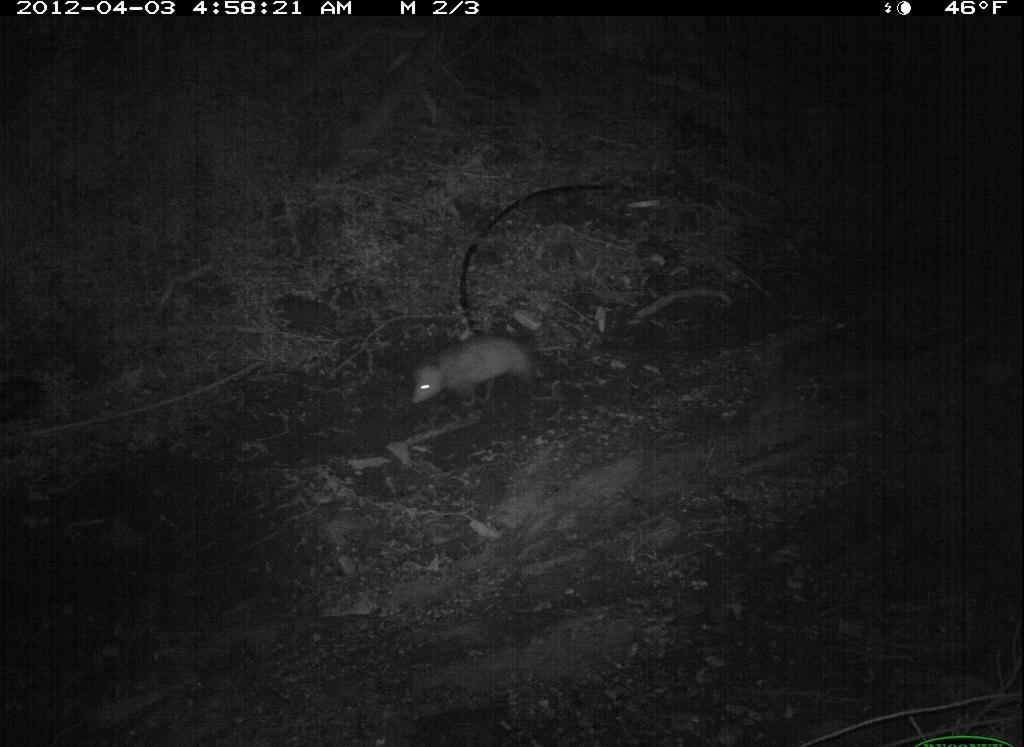opossum: (390, 324, 601, 436)
